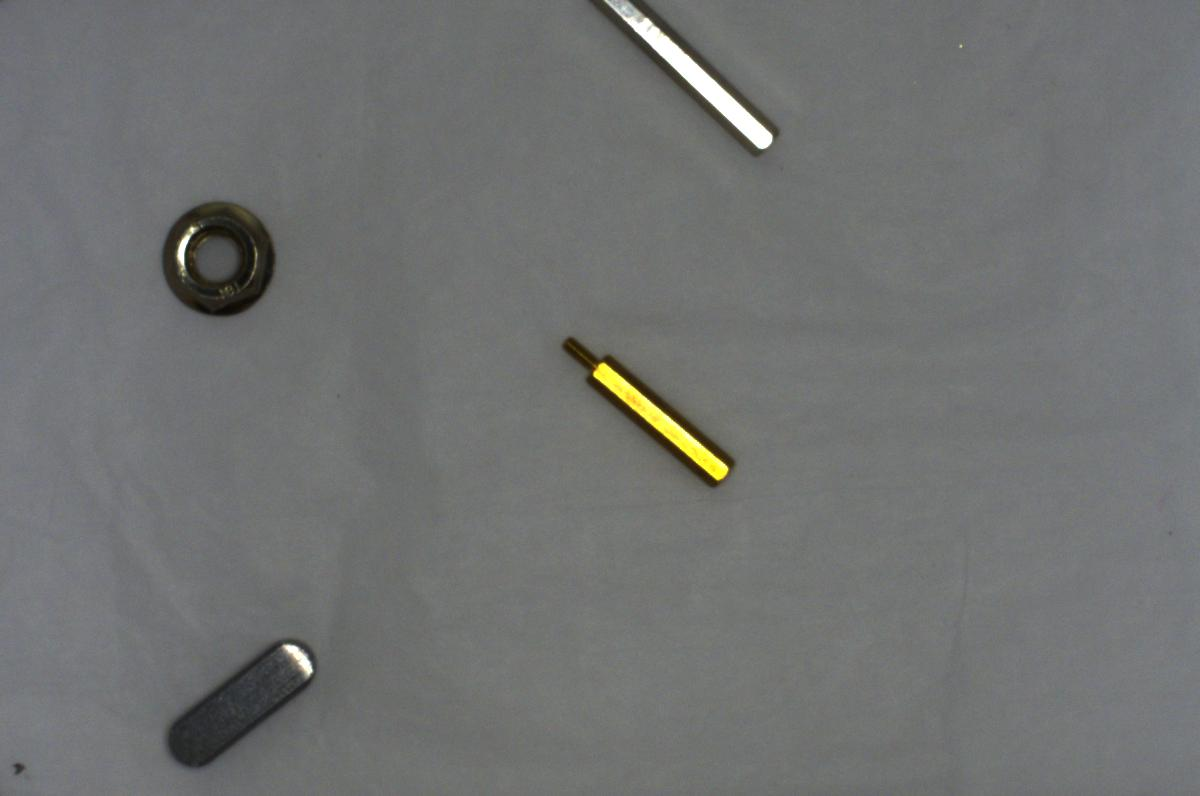Double hexagonal column: (591, 5, 782, 159)
Flange nut: (154, 189, 279, 320)
Hexagon pillar: (553, 330, 735, 488)
Keybar: (159, 622, 332, 778)
